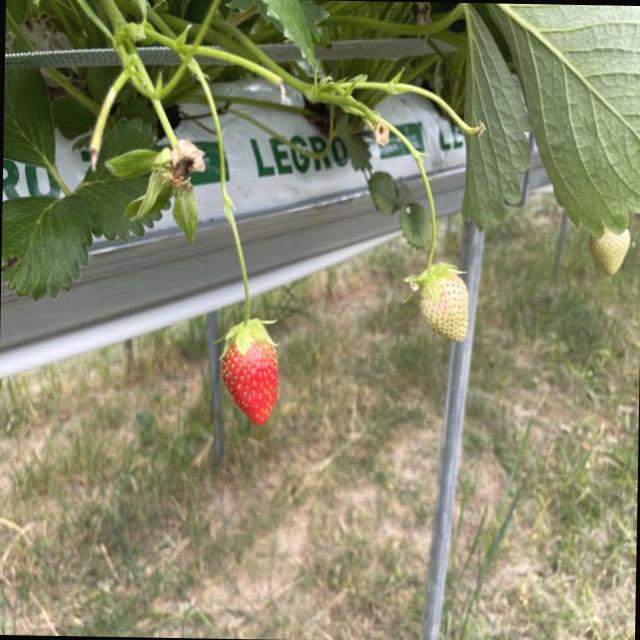stem: (405, 146, 460, 291), (224, 221, 275, 355)
strawberryNR: (419, 273, 468, 340)
strawberryR: (221, 341, 278, 425)
